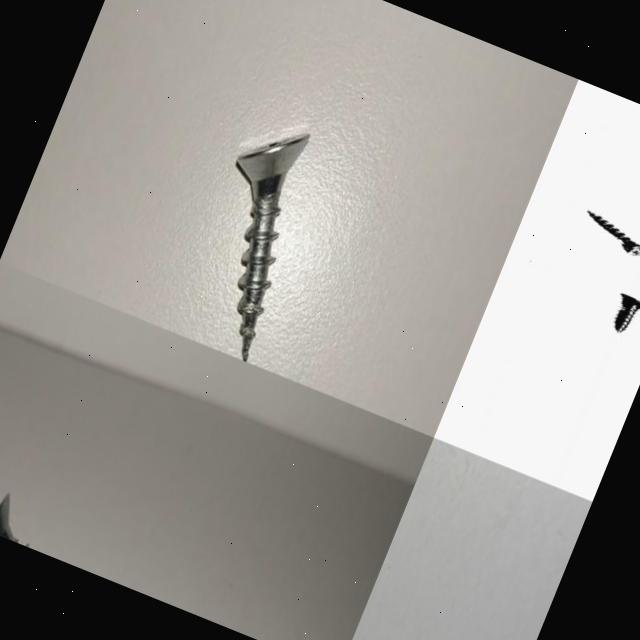Screw: (236, 133, 309, 362), (588, 211, 640, 255), (615, 294, 640, 333), (0, 492, 18, 543)
